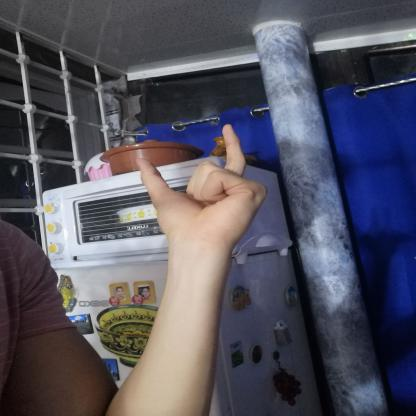NOON: (127, 114, 280, 261)
